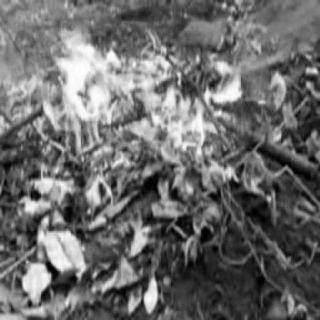Fire: (20, 1, 263, 197)
